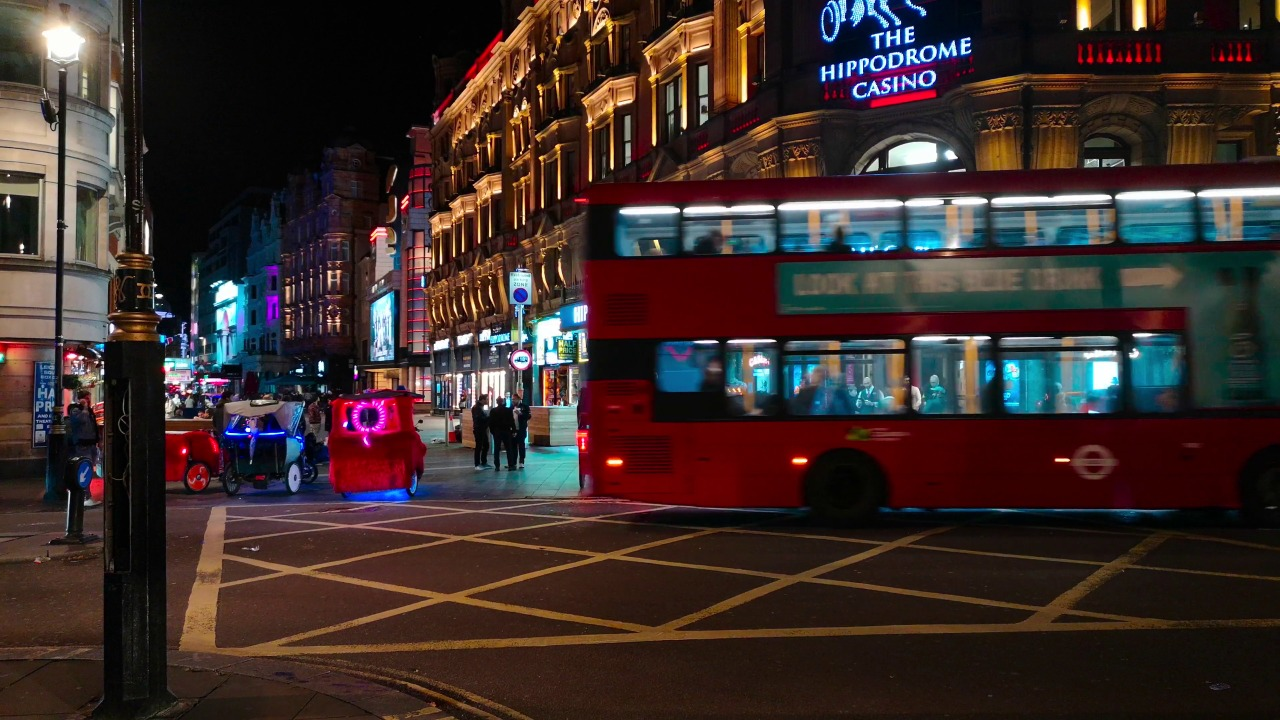car: (587, 174, 1280, 524), (328, 390, 424, 489), (232, 397, 304, 500), (160, 424, 220, 509)
person: (60, 386, 95, 487), (486, 390, 512, 472), (858, 363, 891, 422), (977, 368, 1012, 417), (471, 391, 490, 471), (509, 391, 528, 471), (818, 214, 847, 258), (924, 367, 948, 402), (699, 224, 720, 251), (498, 388, 511, 407)
